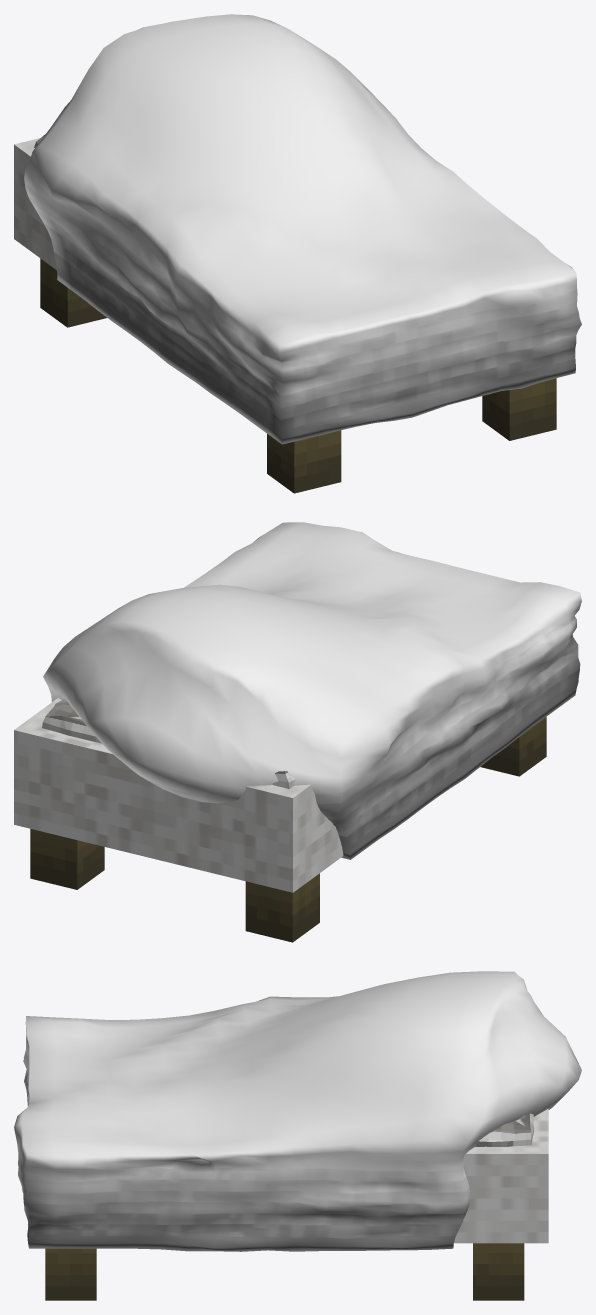
Rendered from parentBed.glb.
The picture shows the model from 3 angles, top to bottom: view 1: azimuth 30°, elevation 25°; view 2: azimuth 150°, elevation 25°; view 3: azimuth 270°, elevation 25°; orthographic projection. The views are drawn at different scales.
Parts seen in each view (by area): view 1: Sheet.001_Baked, Leg.006_Baked, Leg.007_Baked, Bed.001_Baked, Leg.005_Baked; view 2: Sheet.001_Baked, Bed.001_Baked, Leg.005_Baked, Leg.004_Baked, Leg.006_Baked, Pillowright_Baked; view 3: Sheet.001_Baked, Bed.001_Baked, Leg.004_Baked, Leg.007_Baked, Pillowright_Baked.
Part boxes in pixels (<box>): Sheet.001_Baked: <box>24,14,581,444</box>; Leg.006_Baked: <box>267,430,341,493</box>; Leg.007_Baked: <box>482,378,556,440</box>; Bed.001_Baked: <box>14,138,56,269</box>; Leg.005_Baked: <box>40,258,106,327</box>; Sheet.001_Baked: <box>43,522,581,859</box>; Bed.001_Baked: <box>14,698,343,892</box>; Leg.005_Baked: <box>245,873,319,942</box>; Leg.004_Baked: <box>30,829,104,889</box>; Leg.006_Baked: <box>480,717,546,776</box>; Pillowright_Baked: <box>42,699,101,743</box>; Sheet.001_Baked: <box>14,971,581,1251</box>; Bed.001_Baked: <box>454,1108,548,1243</box>; Leg.004_Baked: <box>473,1243,524,1300</box>; Leg.007_Baked: <box>45,1248,96,1300</box>; Pillowright_Baked: <box>475,1113,533,1146</box>.
Size of the model in its own units: 7.22 by 5.65 by 11.53.
Materials: 8 (8 with a texture image).
